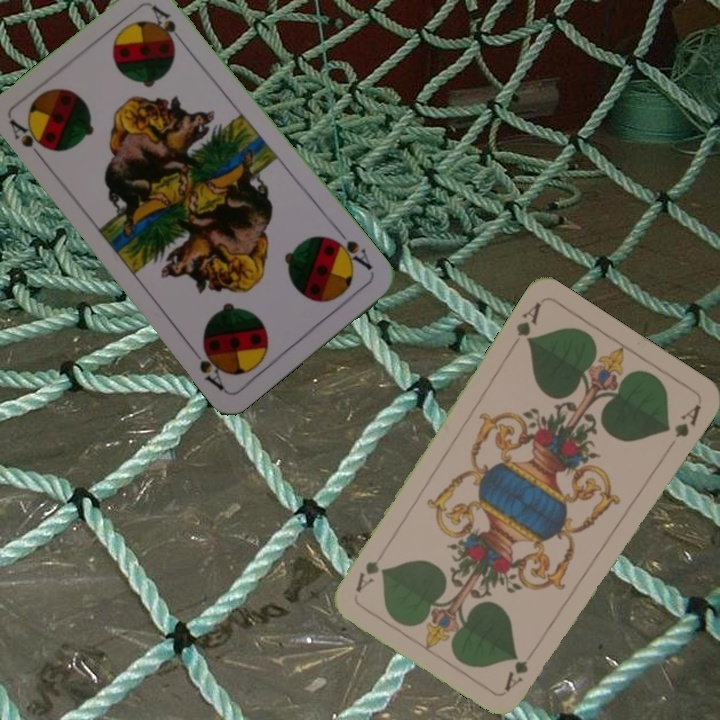GA: (512, 297, 544, 347), (500, 656, 531, 694)
SA: (325, 225, 376, 274), (5, 115, 50, 166)
